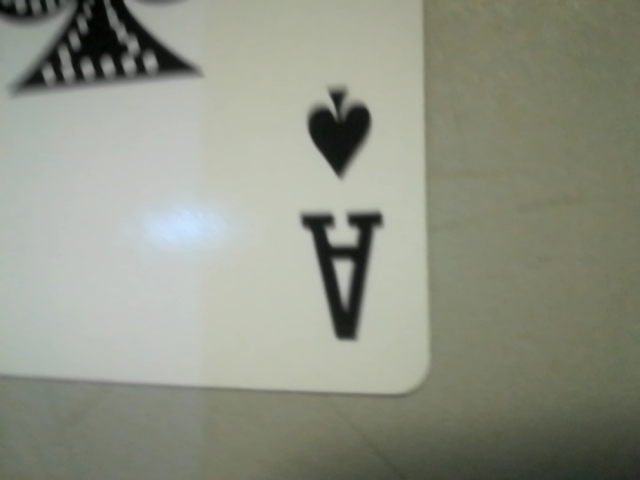ht a: (264, 68, 426, 364)
